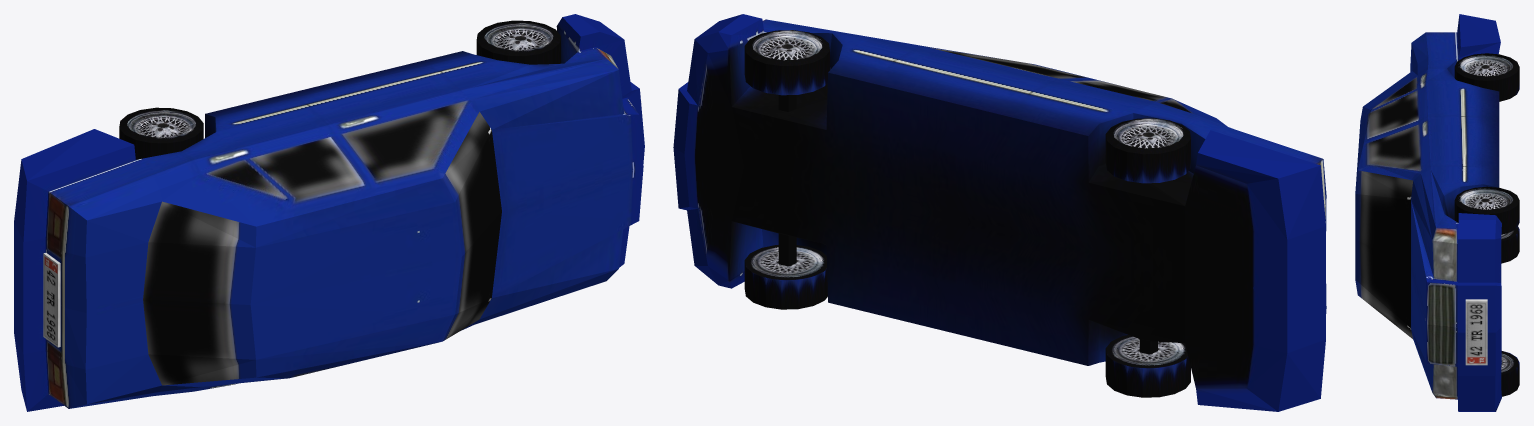
File: car_blue4.obj
3 views of the same model, side by side, from view 1: azimuth 30°, elevation 25°; view 2: azimuth 150°, elevation 25°; view 3: azimuth 270°, elevation 25° (orthographic). The views are drawn at different scales.
Bounding box in the file's own units: 402 × 155 × 120.
1 material, 1 textured.
